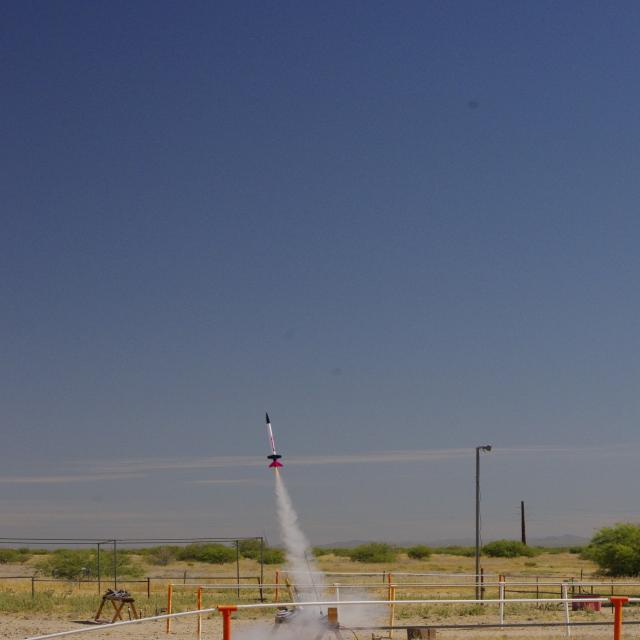Rocket: (265, 412, 284, 468), (285, 578, 299, 613), (292, 586, 306, 612)
